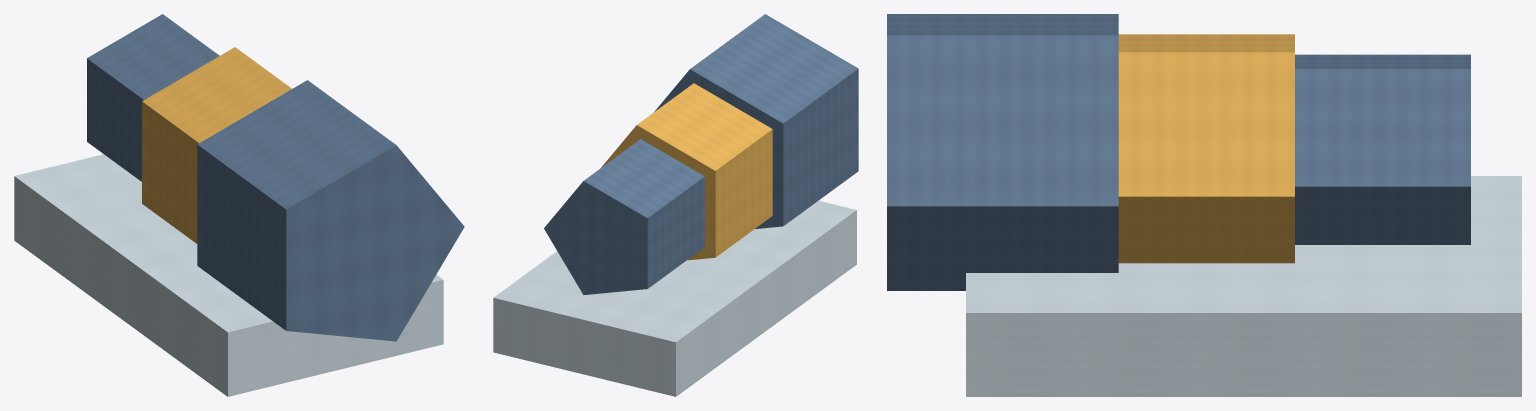
File: atlas100-s053-a05.lod1.glb
3 views of the same model, side by side, from view 1: azimuth 30°, elevation 25°; view 2: azimuth 150°, elevation 25°; view 3: azimuth 270°, elevation 25° (orthographic). The views are drawn at different scales.
Visible parts, largest first — view 1: atlas100-s053-a05:part-002, atlas100-s053-a05:part-004, atlas100-s053-a05:part-001, atlas100-s053-a05:part-000; view 2: atlas100-s053-a05:part-004, atlas100-s053-a05:part-002, atlas100-s053-a05:part-000, atlas100-s053-a05:part-001; view 3: atlas100-s053-a05:part-004, atlas100-s053-a05:part-002, atlas100-s053-a05:part-001, atlas100-s053-a05:part-000.
Boxes of the visible parts, box(x1,y1,x2,y2) form: atlas100-s053-a05:part-002: box(197, 80, 464, 341); atlas100-s053-a05:part-004: box(14, 154, 443, 396); atlas100-s053-a05:part-001: box(142, 47, 291, 243); atlas100-s053-a05:part-000: box(87, 14, 219, 181); atlas100-s053-a05:part-004: box(493, 200, 856, 396); atlas100-s053-a05:part-002: box(654, 14, 858, 228); atlas100-s053-a05:part-000: box(544, 139, 704, 295); atlas100-s053-a05:part-001: box(601, 83, 772, 260); atlas100-s053-a05:part-004: box(966, 176, 1521, 396); atlas100-s053-a05:part-002: box(887, 14, 1118, 290); atlas100-s053-a05:part-001: box(1118, 34, 1294, 263); atlas100-s053-a05:part-000: box(1295, 54, 1470, 244).
Size of the model in its own units: 0.3822 by 0.4064 by 0.748.
Materials: 3 (3 with a texture image).
